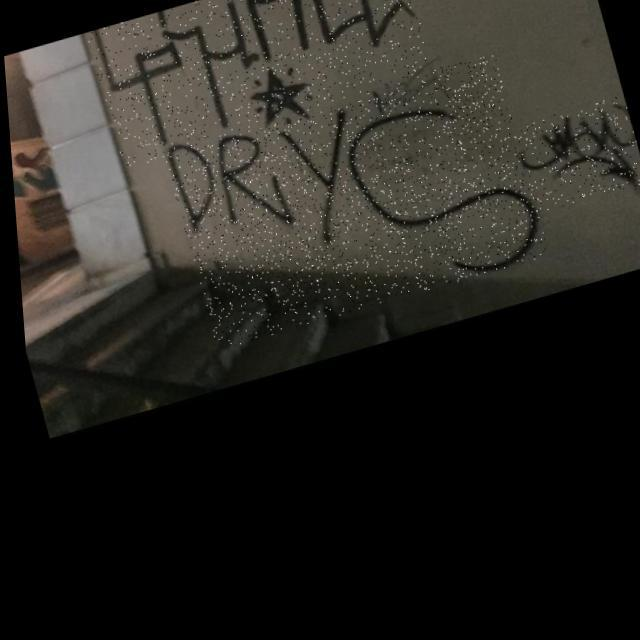-: (156, 59, 549, 358), (83, 0, 437, 173), (506, 105, 640, 226)
